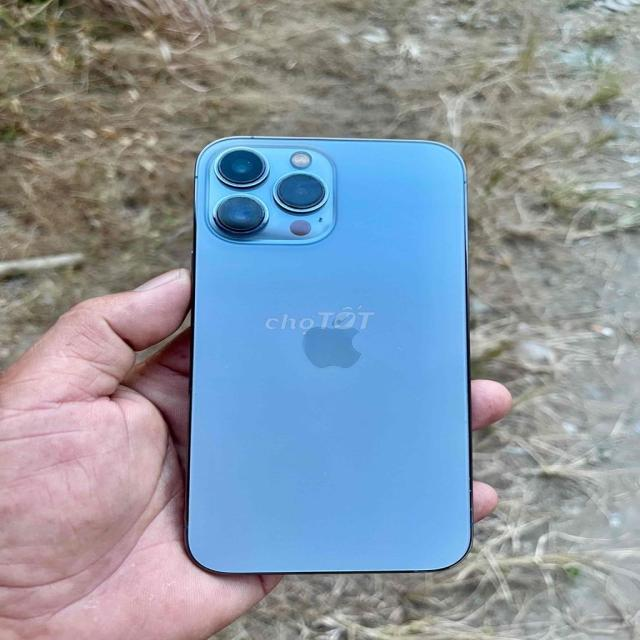gen_12_13: (177, 124, 500, 582)
